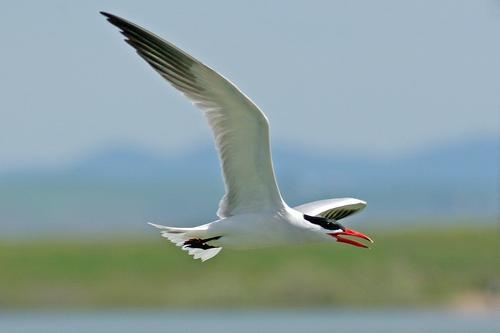bird: (97, 10, 375, 262)
